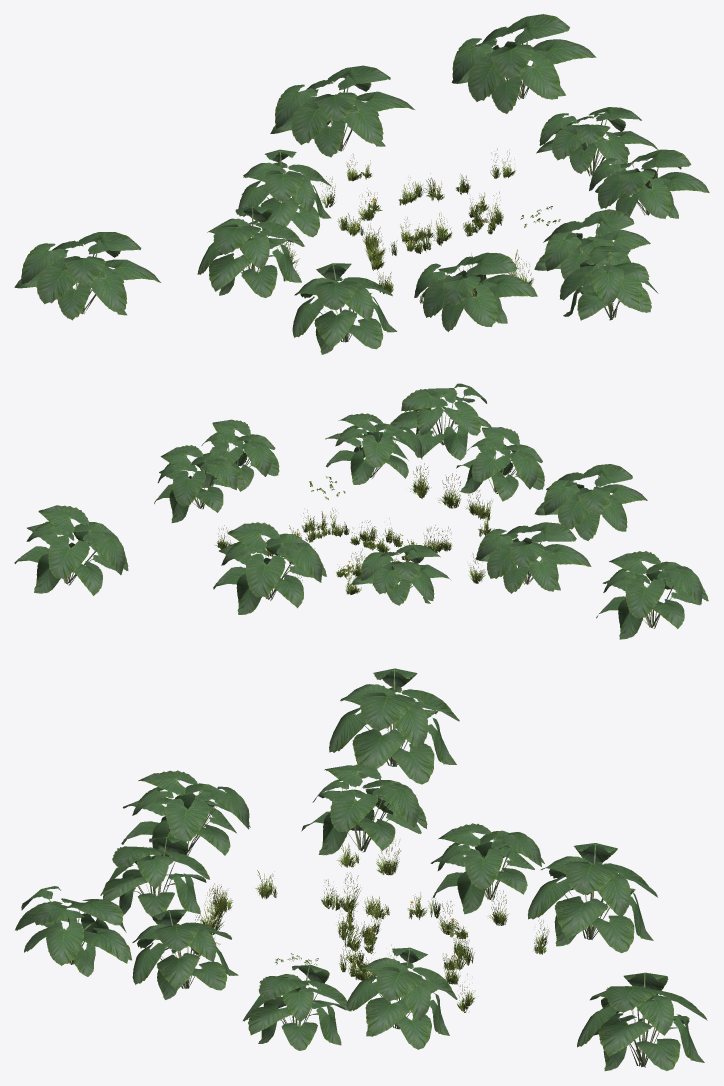
The model's file is plants.glb.
3 renders of one model, top to bottom at view 1: azimuth 30°, elevation 25°; view 2: azimuth 150°, elevation 25°; view 3: azimuth 270°, elevation 25°, orthographic. The views are drawn at different scales.
Visible parts, largest first — view 1: taro5, taro.001, pasted__tall_bush_16, pasted__Small_bush_7, pasted__Medium_bush_6, tiny_weeds_03_02; view 2: taro5, taro.001, pasted__Medium_bush_18, tiny_weeds_03_02, pasted__Medium_bush_6, pasted__tall_bush_16, pasted__Small_bush_7; view 3: taro5, taro.001, pasted__Small_bush_7, pasted__tall_bush_16, pasted__Medium_bush_18, pasted__Medium_bush_6, tiny_weeds_03_02.
Part boxes in pixels (box(x1,y1,x2,y2)): taro5: box(270, 14, 709, 320); taro.001: box(14, 149, 537, 354); pasted__tall_bush_16: box(320, 148, 515, 220); pasted__Small_bush_7: box(276, 213, 397, 281); pasted__Medium_bush_6: box(400, 212, 452, 253); tiny_weeds_03_02: box(463, 191, 503, 236); taro5: box(14, 383, 491, 614); taro.001: box(351, 427, 708, 639); pasted__Medium_bush_18: box(410, 463, 494, 536); tiny_weeds_03_02: box(289, 508, 349, 542); pasted__Medium_bush_6: box(350, 518, 403, 552); pasted__tall_bush_16: box(215, 525, 364, 594); pasted__Small_bush_7: box(392, 525, 485, 583); taro5: box(15, 843, 707, 1071); taro.001: box(100, 668, 544, 916); pasted__Small_bush_7: box(321, 831, 440, 922); pasted__tall_bush_16: box(438, 890, 549, 1012); pasted__Medium_bush_18: box(191, 870, 277, 956); pasted__Medium_bush_6: box(337, 908, 381, 953); tiny_weeds_03_02: box(339, 943, 396, 982).
Size of the model in its own units: 15616 by 2052 by 12741.
7 materials, 7 textured.
